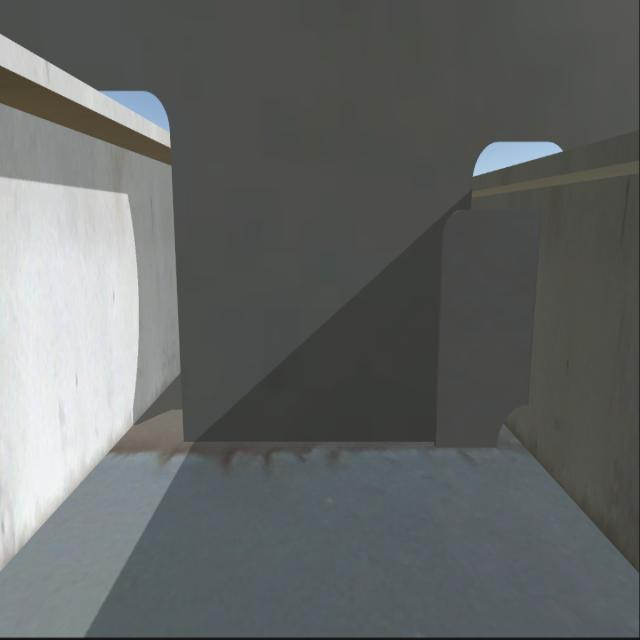fillet_hole: (494, 403, 527, 450)
fillet_yong_jeop_jang: (182, 444, 498, 452)
longi_yong_jeop_jang: (525, 215, 541, 402)
plate_CP05: (438, 213, 540, 443)
